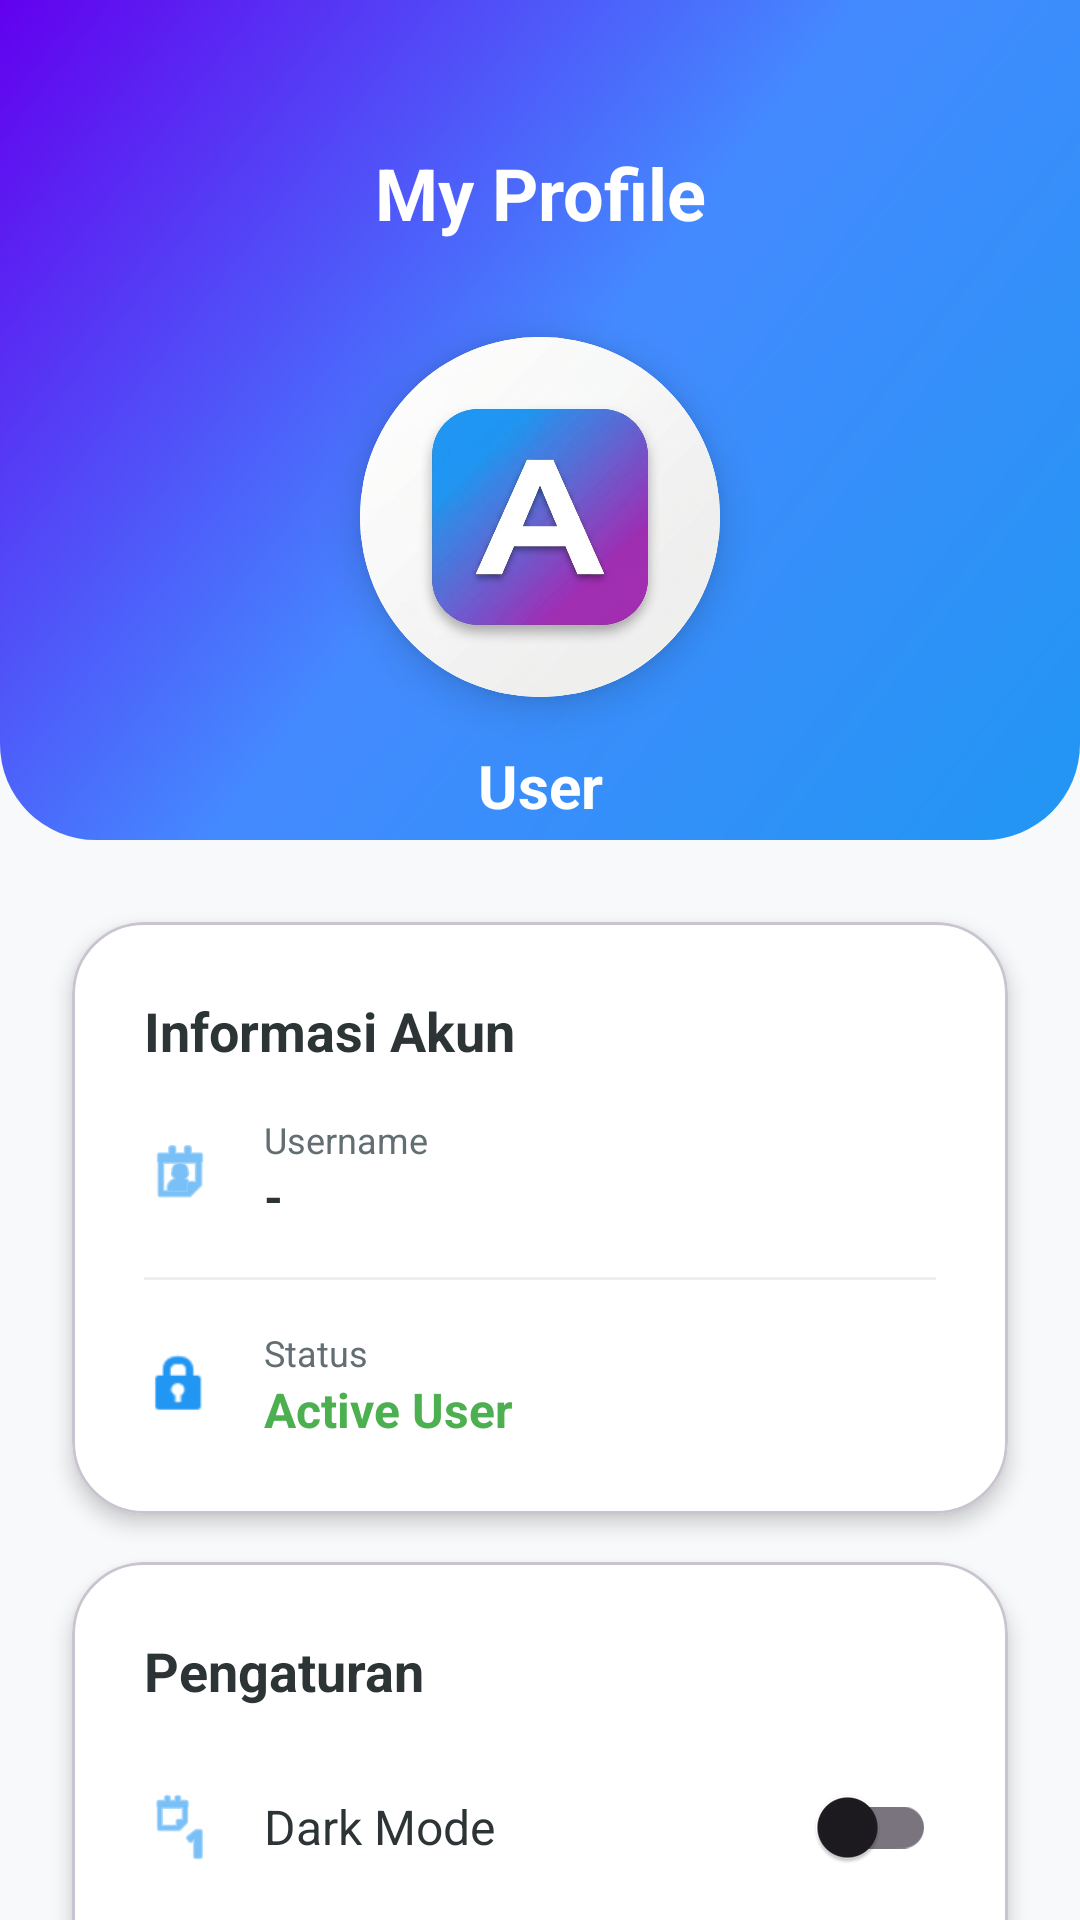

Point at icon controls on the screen. Image size 1080*1920, points as [x,y].
calendar: [180,1171]
day: [179,1827]
lock idle: [178,1382]
